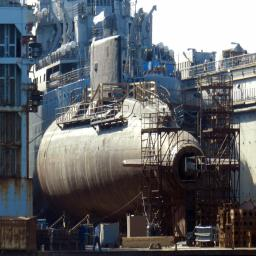submarine: (40, 31, 200, 210)
